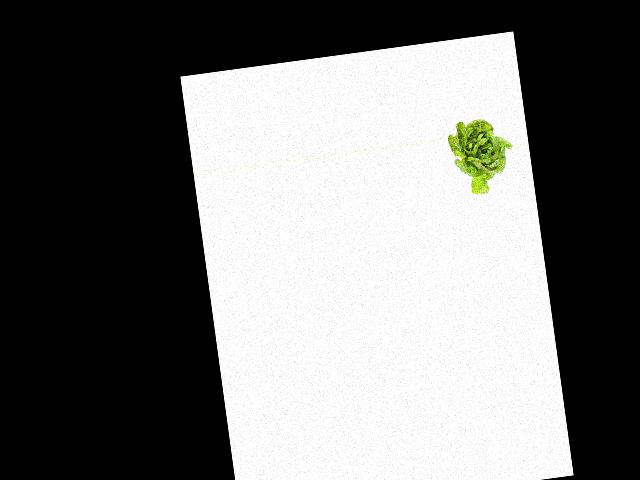lettuce: (447, 114, 518, 199)
